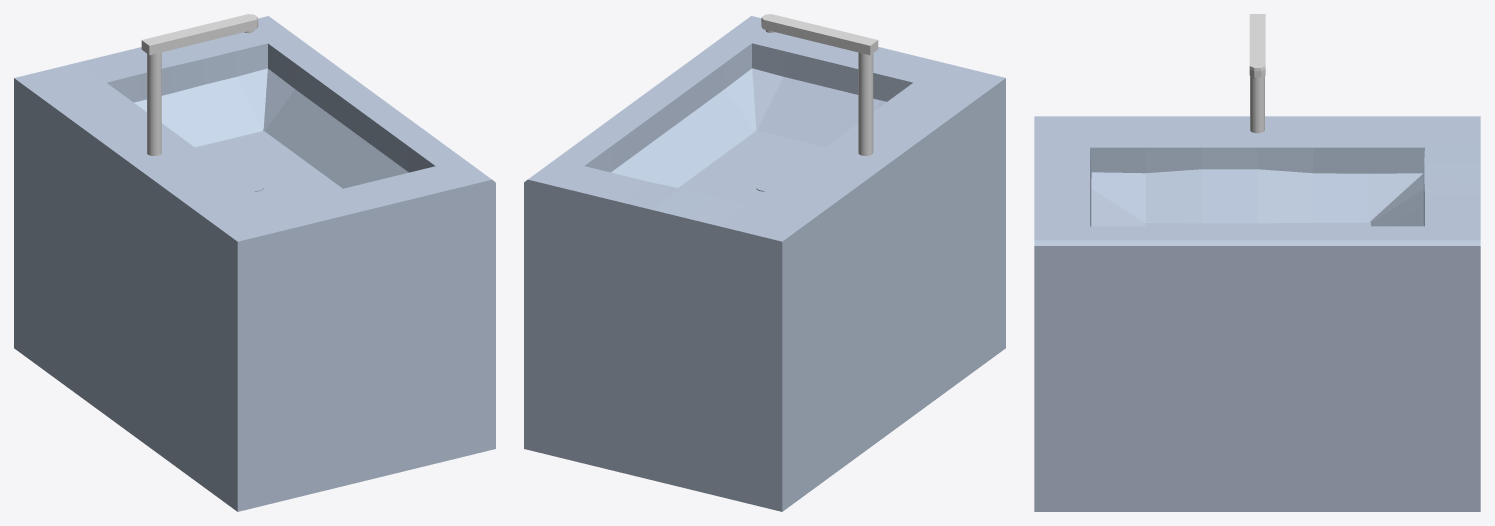
The model's file is tiskiallas.fbx.
The picture shows the model from 3 angles, left to right: view 1: azimuth 30°, elevation 25°; view 2: azimuth 150°, elevation 25°; view 3: azimuth 270°, elevation 25°; orthographic projection.
Visible parts, largest first — view 1: Tiskiallas, Hana; view 2: Tiskiallas, Hana; view 3: Tiskiallas, Hana.
Boxes of the visible parts, x1,y1,x2,y2 form: Tiskiallas: (14, 16, 495, 511); Hana: (141, 14, 258, 155); Tiskiallas: (524, 16, 1005, 511); Hana: (761, 14, 878, 155); Tiskiallas: (1034, 116, 1480, 511); Hana: (1249, 14, 1265, 133).
Size of the model in its own units: 200 by 283 by 300.
